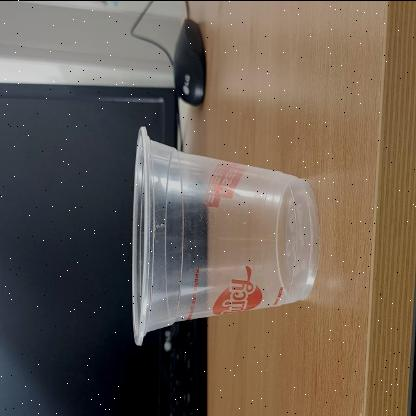Others: (129, 126, 320, 346)
